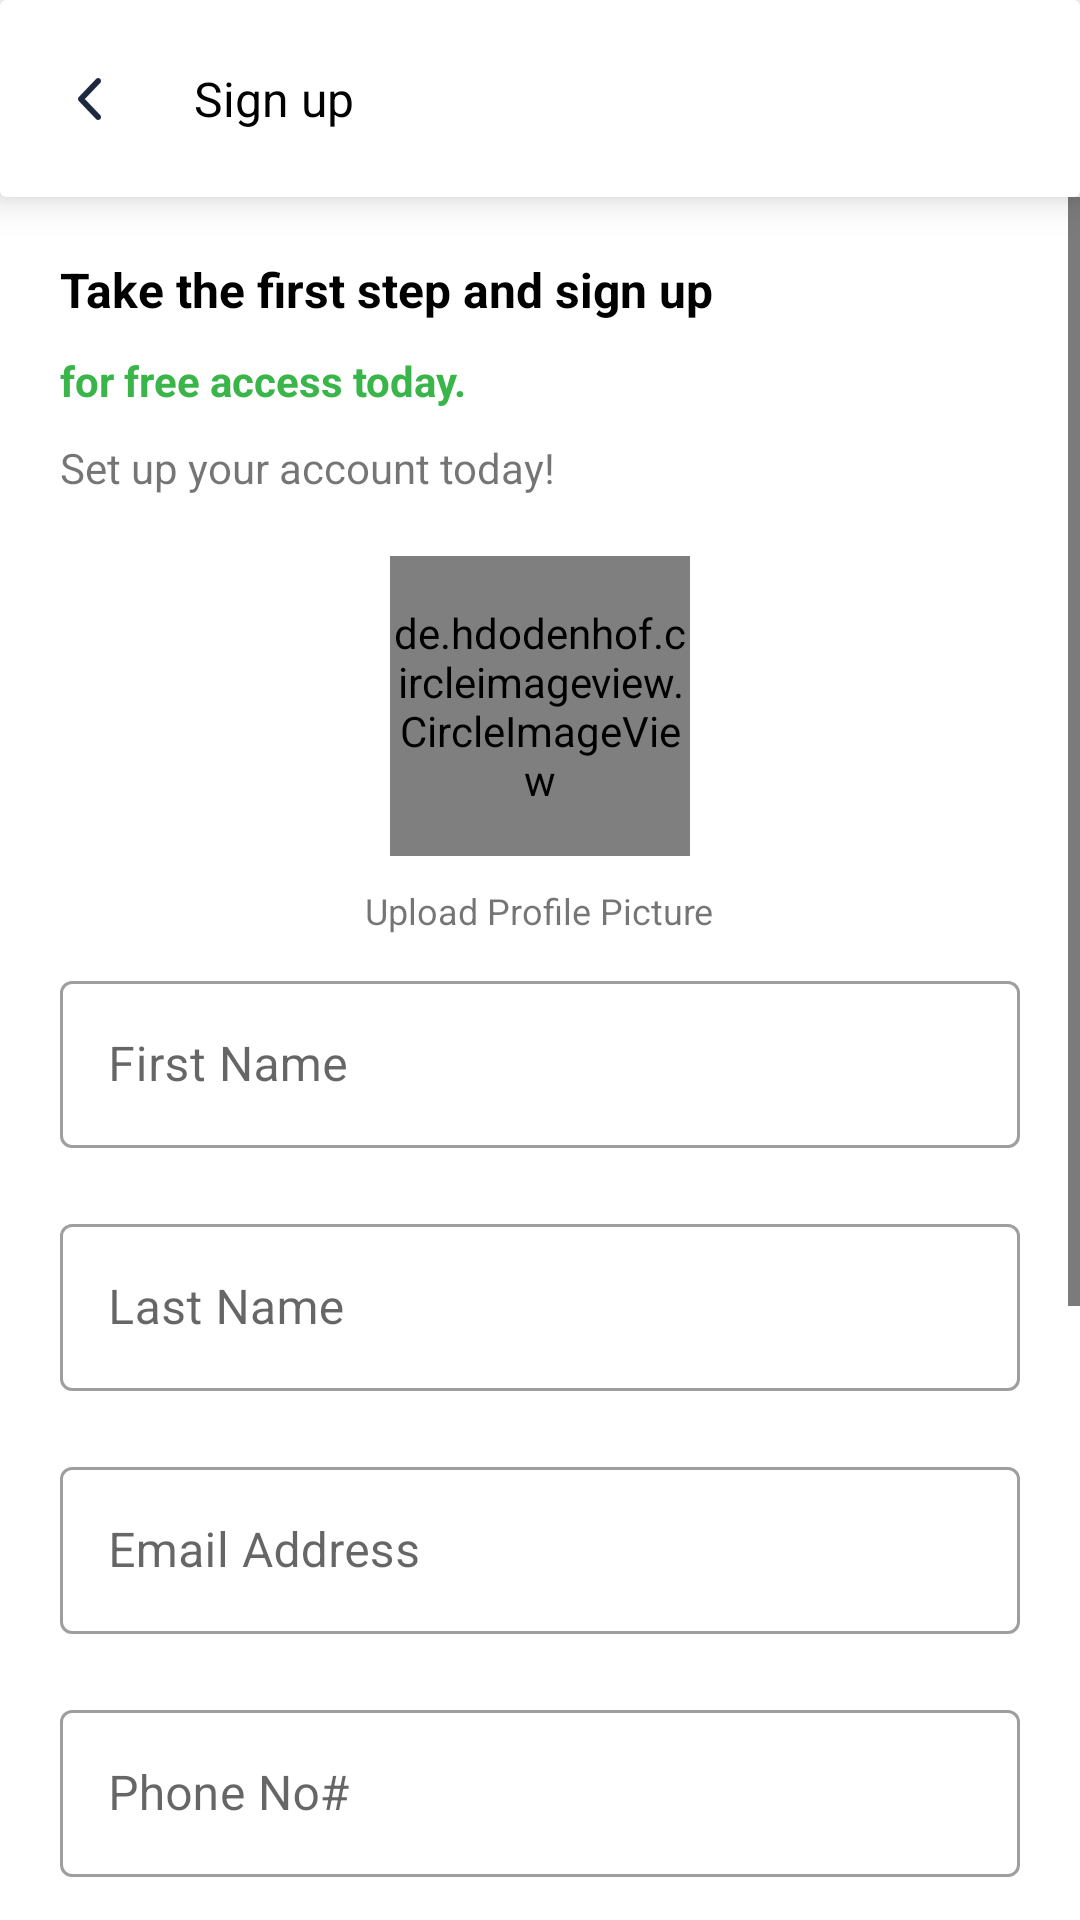

Named icons in this screenshot (1080w x 1920h) and their bounding boxes, [x1, y1, x2, y2]:
back: [78, 78, 101, 120]
